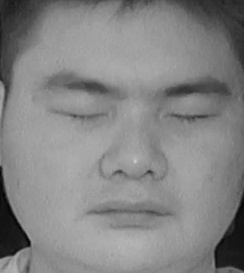blink: (50, 95, 110, 129), (165, 100, 220, 132)
mouth: (77, 187, 173, 236)
